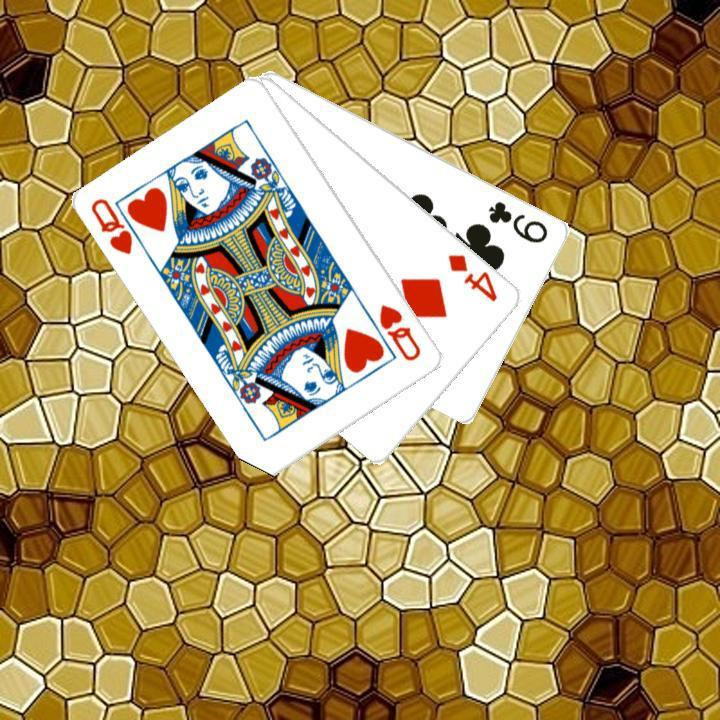4: (444, 249, 500, 304)
9: (484, 196, 551, 246)
Q: (86, 193, 151, 257), (375, 300, 424, 364)
